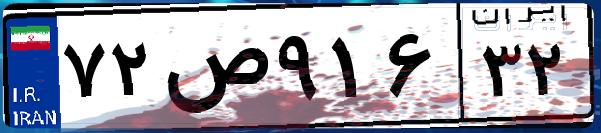1: (330, 28, 385, 110)
2: (525, 38, 570, 115), (110, 28, 158, 98)
3: (475, 38, 525, 113)
6: (385, 28, 445, 110)
7: (57, 26, 110, 100)
9: (270, 28, 330, 110)
ص: (158, 20, 270, 120)
